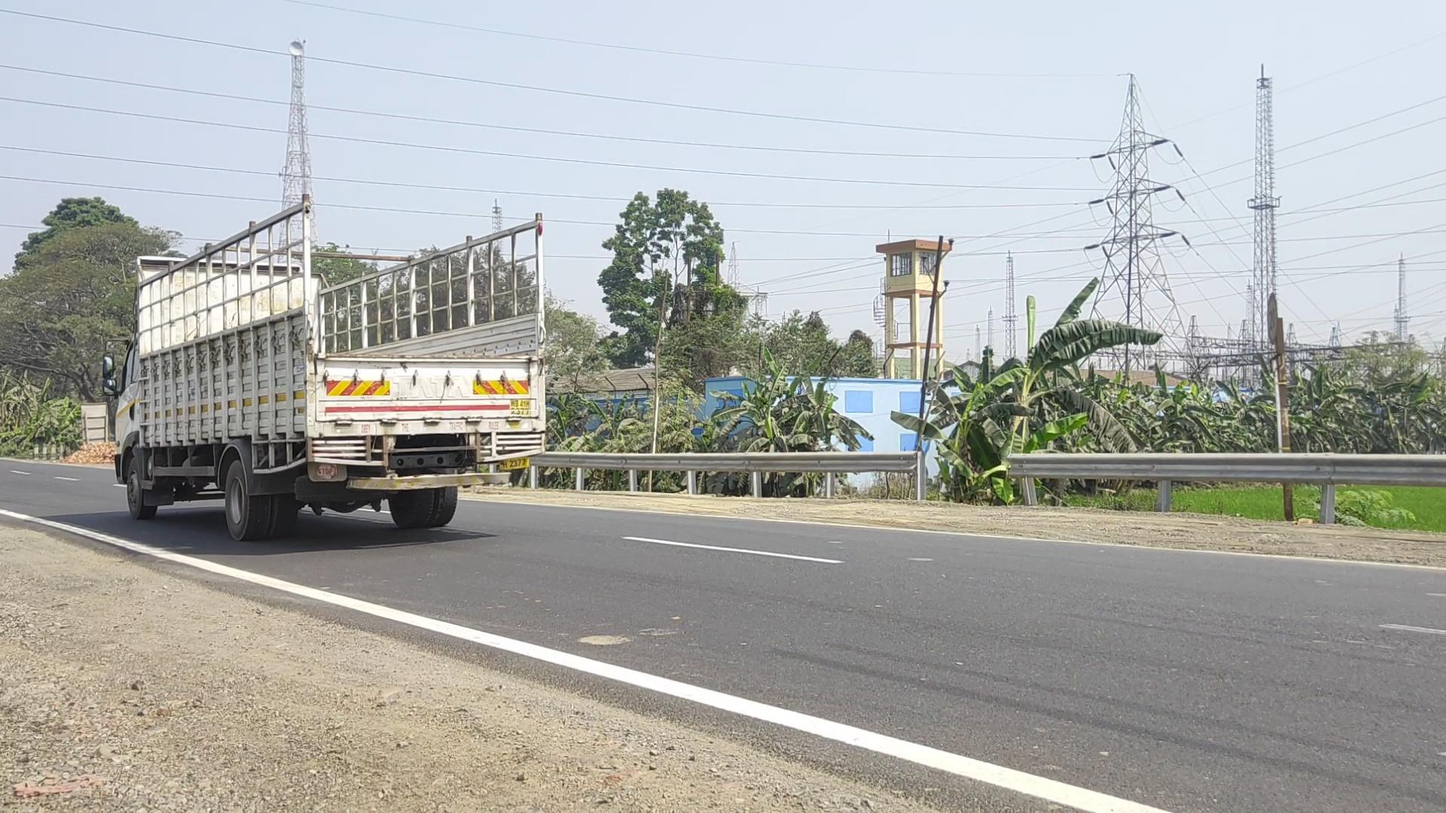van: (102, 193, 545, 544)
